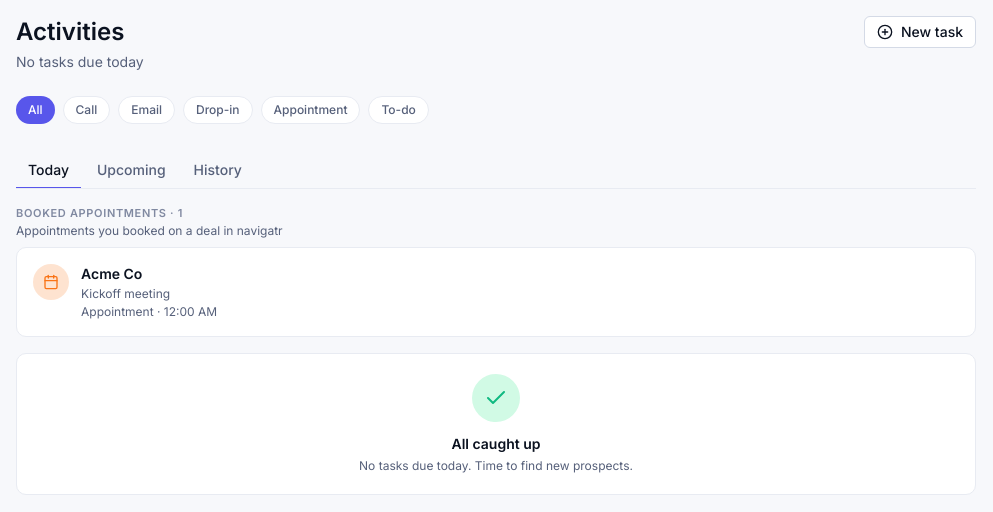
Test: ActivitiesPage / booked appointments in Today (QF-3) › hides booked appointments under a non-appointment type filter
The image size is (993, 512).
Expected: the element "Booked appointments" is shown, [16,205,976,337]
Click the button "Email": click(147, 110) [118,96,175,124]
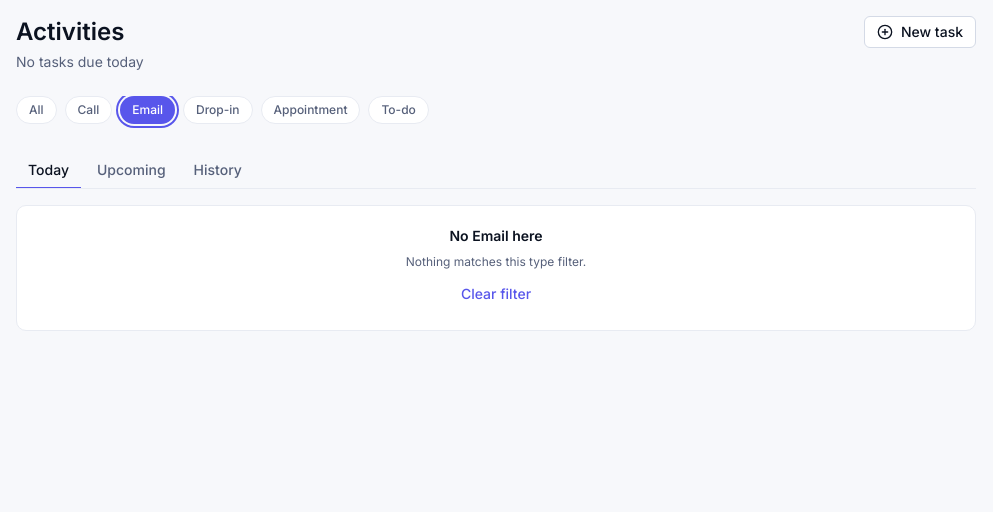
Expected: the text "Booked appointments" is gone
